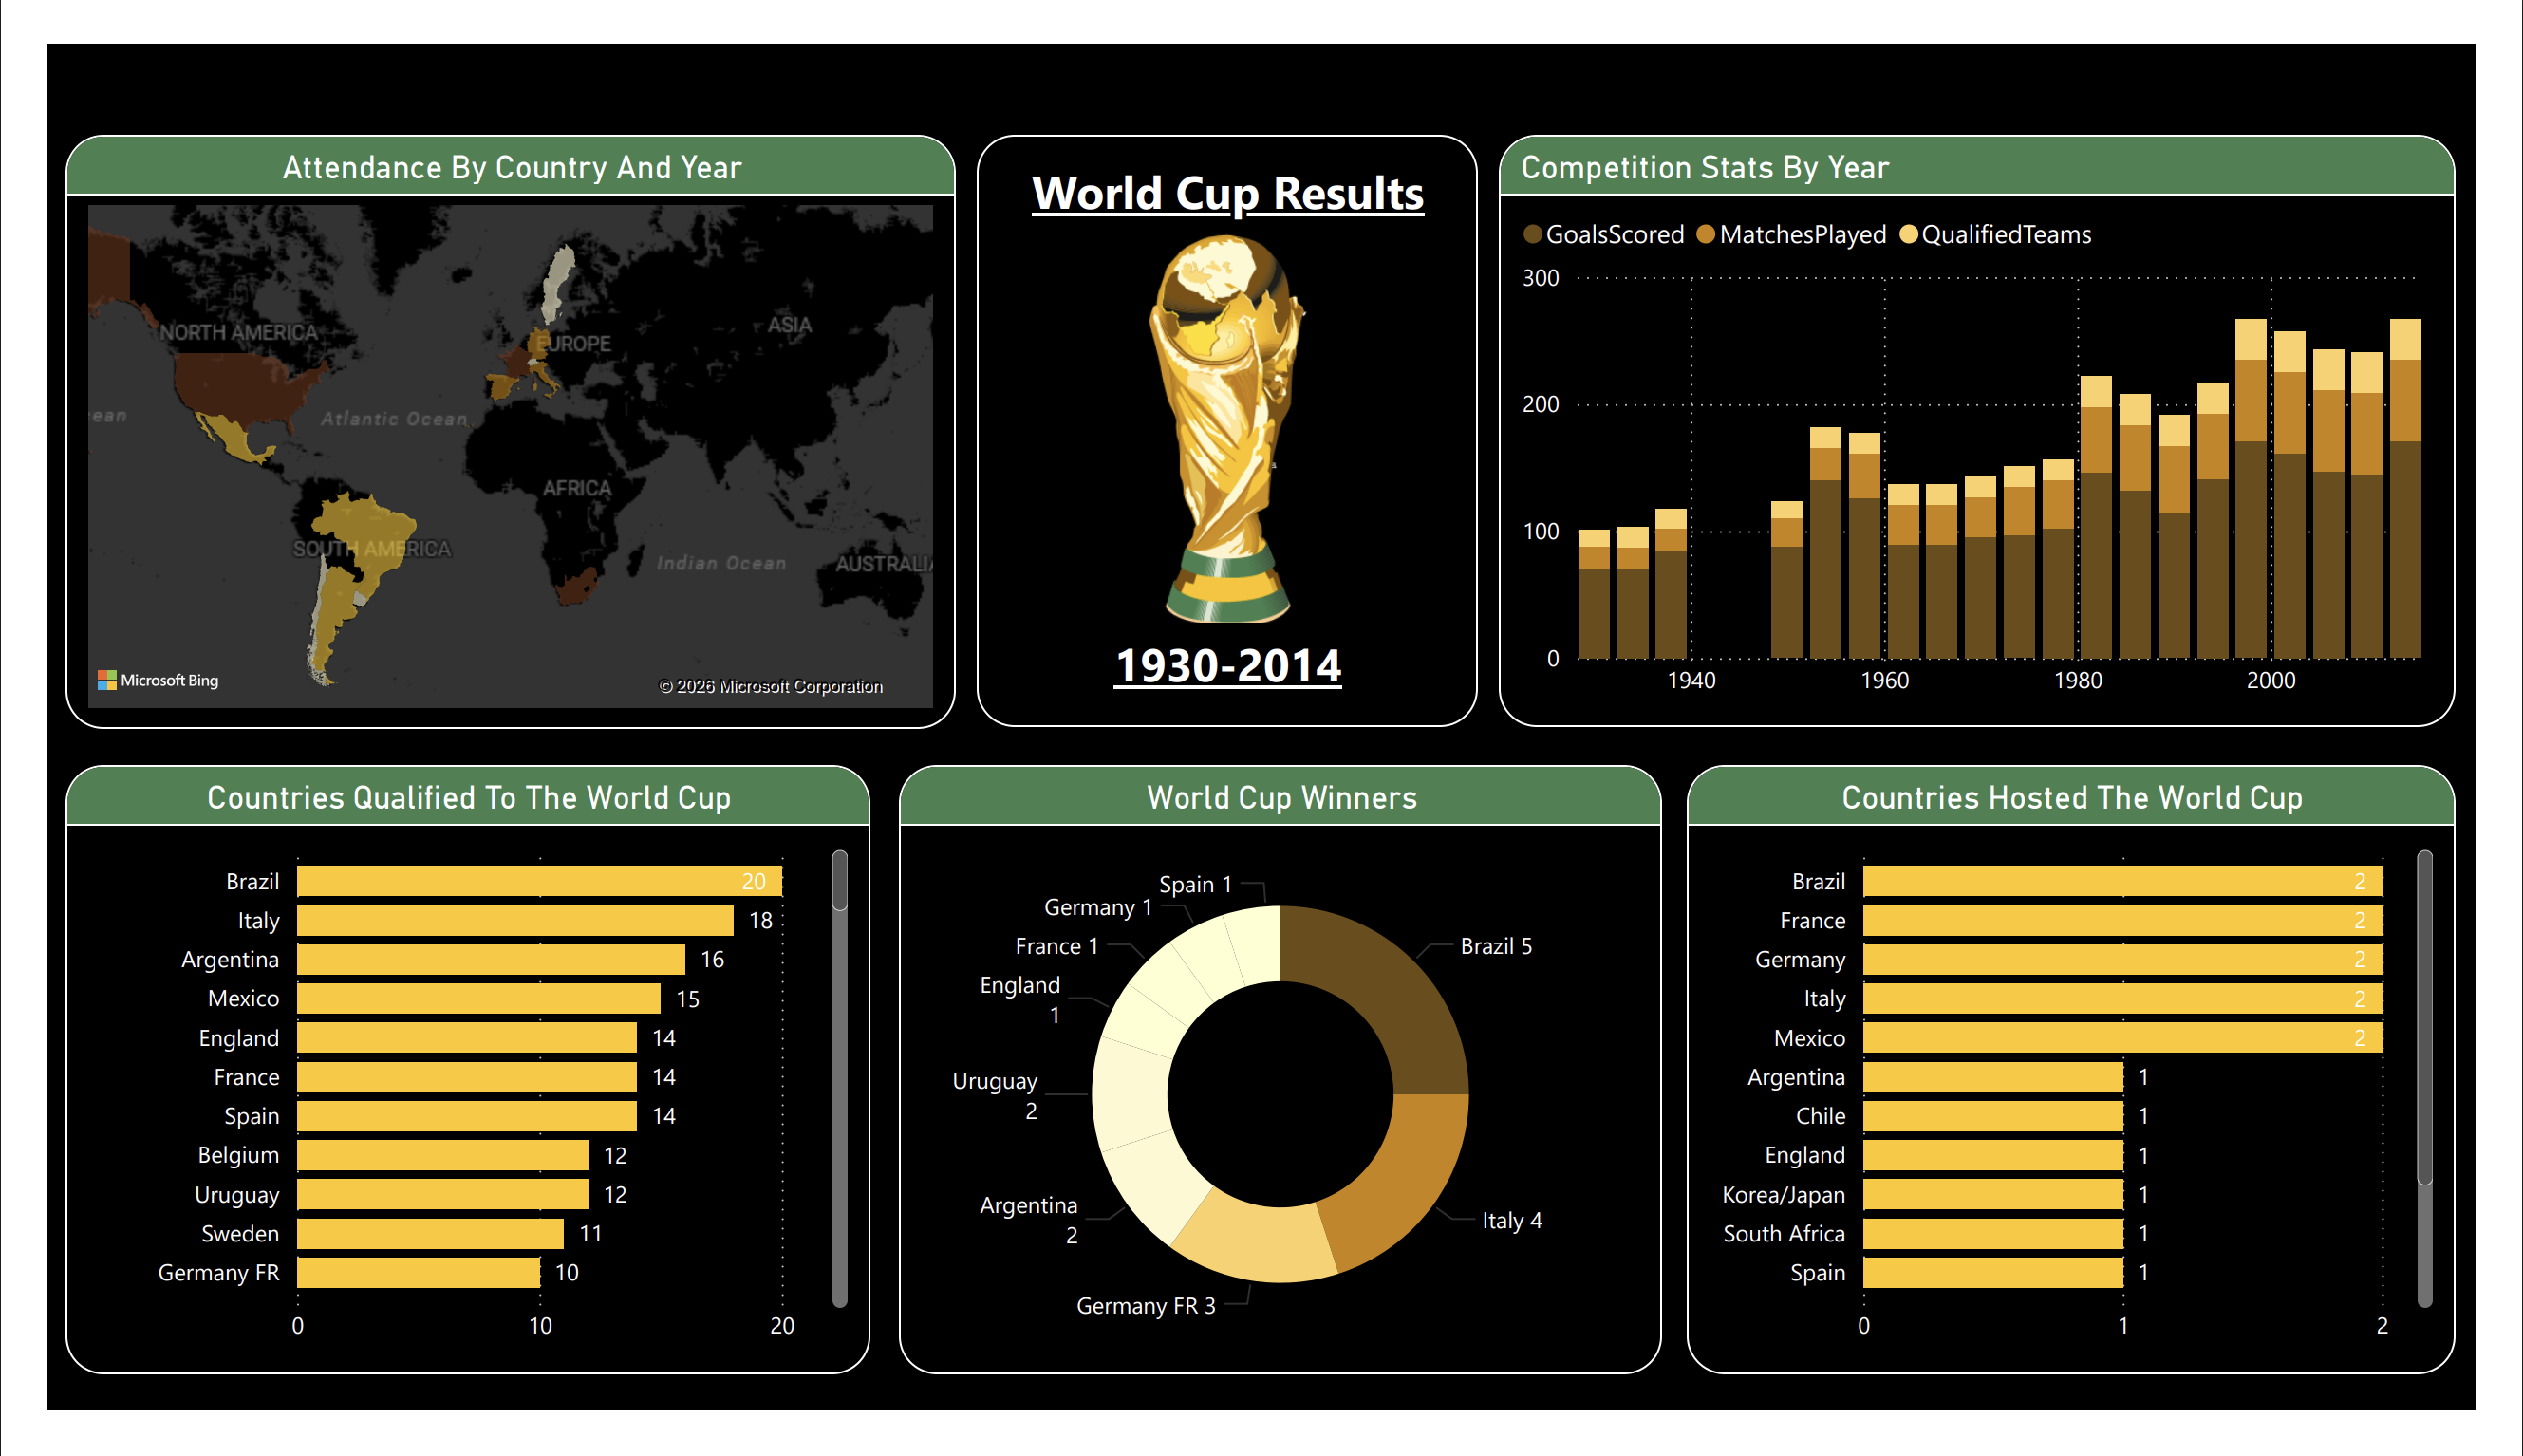

The dashboard page shown, as its layout file describes it:
{"tool":"powerbi","page":{"name":"Page 1","canvas":[1280,720],"ordinal":0},"visuals":[{"type":"image","box":[490,47.5,263.8,312.5],"z":0},{"type":"textbox","box":[505,56.2,235,42.5],"z":1000},{"type":"textbox","box":[531.2,305,182.5,45],"z":2000},{"type":"columnChart","title":"Competition Stats By Year","fields":{"Y":["Sum(WorldCups.GoalsScored)","Sum(WorldCups.MatchesPlayed)","Sum(WorldCups.QualifiedTeams)"],"Category":["WorldCups.Year"]},"box":[765,47.5,503.8,312.5],"z":3000},{"type":"donutChart","title":"World Cup Winners","fields":{"Category":["WorldCups.Winner"],"Y":["CountNonNull(WorldCups.Winner)"]},"box":[448.8,380,402.5,321.2],"z":4000},{"type":"barChart","title":"Countries Qualified To The World Cup","fields":{"Category":["World Cup - Tableau format.Team"],"Y":["Count(World Cup - Tableau format.Year)"]},"box":[10,380,423.8,321.2],"z":5000},{"type":"barChart","title":"Countries Hosted The World Cup","fields":{"Category":["WorldCups.Country"],"Y":["CountNonNull(WorldCups.Country)"]},"box":[863.8,380,405,321.2],"z":6000},{"type":"filledMap","title":"Attendance By Country And Year","fields":{"Category":["WorldCups.Country"],"Series":["WorldCups.Attendance"]},"box":[10,47.5,468.8,313.8],"z":7000}]}

Visuals, with their boxes in screenshot pixels (x1, y1, x2, y2), scaled from the page's 1280x720 canvas onto the 2523x1456 screenshot:
image: 966:96:1486:728
textbox: 996:114:1459:199
textbox: 1047:617:1407:708
"Competition Stats By Year" columnChart: 1508:96:2501:728
"World Cup Winners" donutChart: 885:769:1678:1418
"Countries Qualified To The World Cup" barChart: 20:769:855:1418
"Countries Hosted The World Cup" barChart: 1703:769:2501:1418
"Attendance By Country And Year" filledMap: 20:96:944:731
